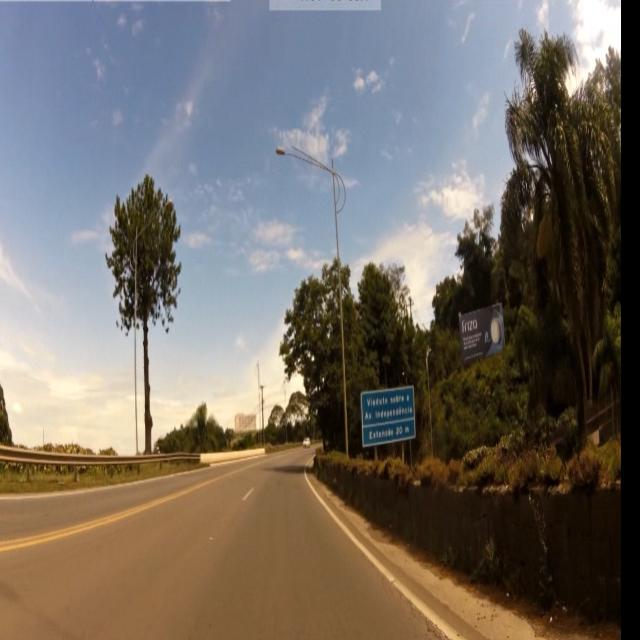LOC-6: (360, 393, 414, 444)
